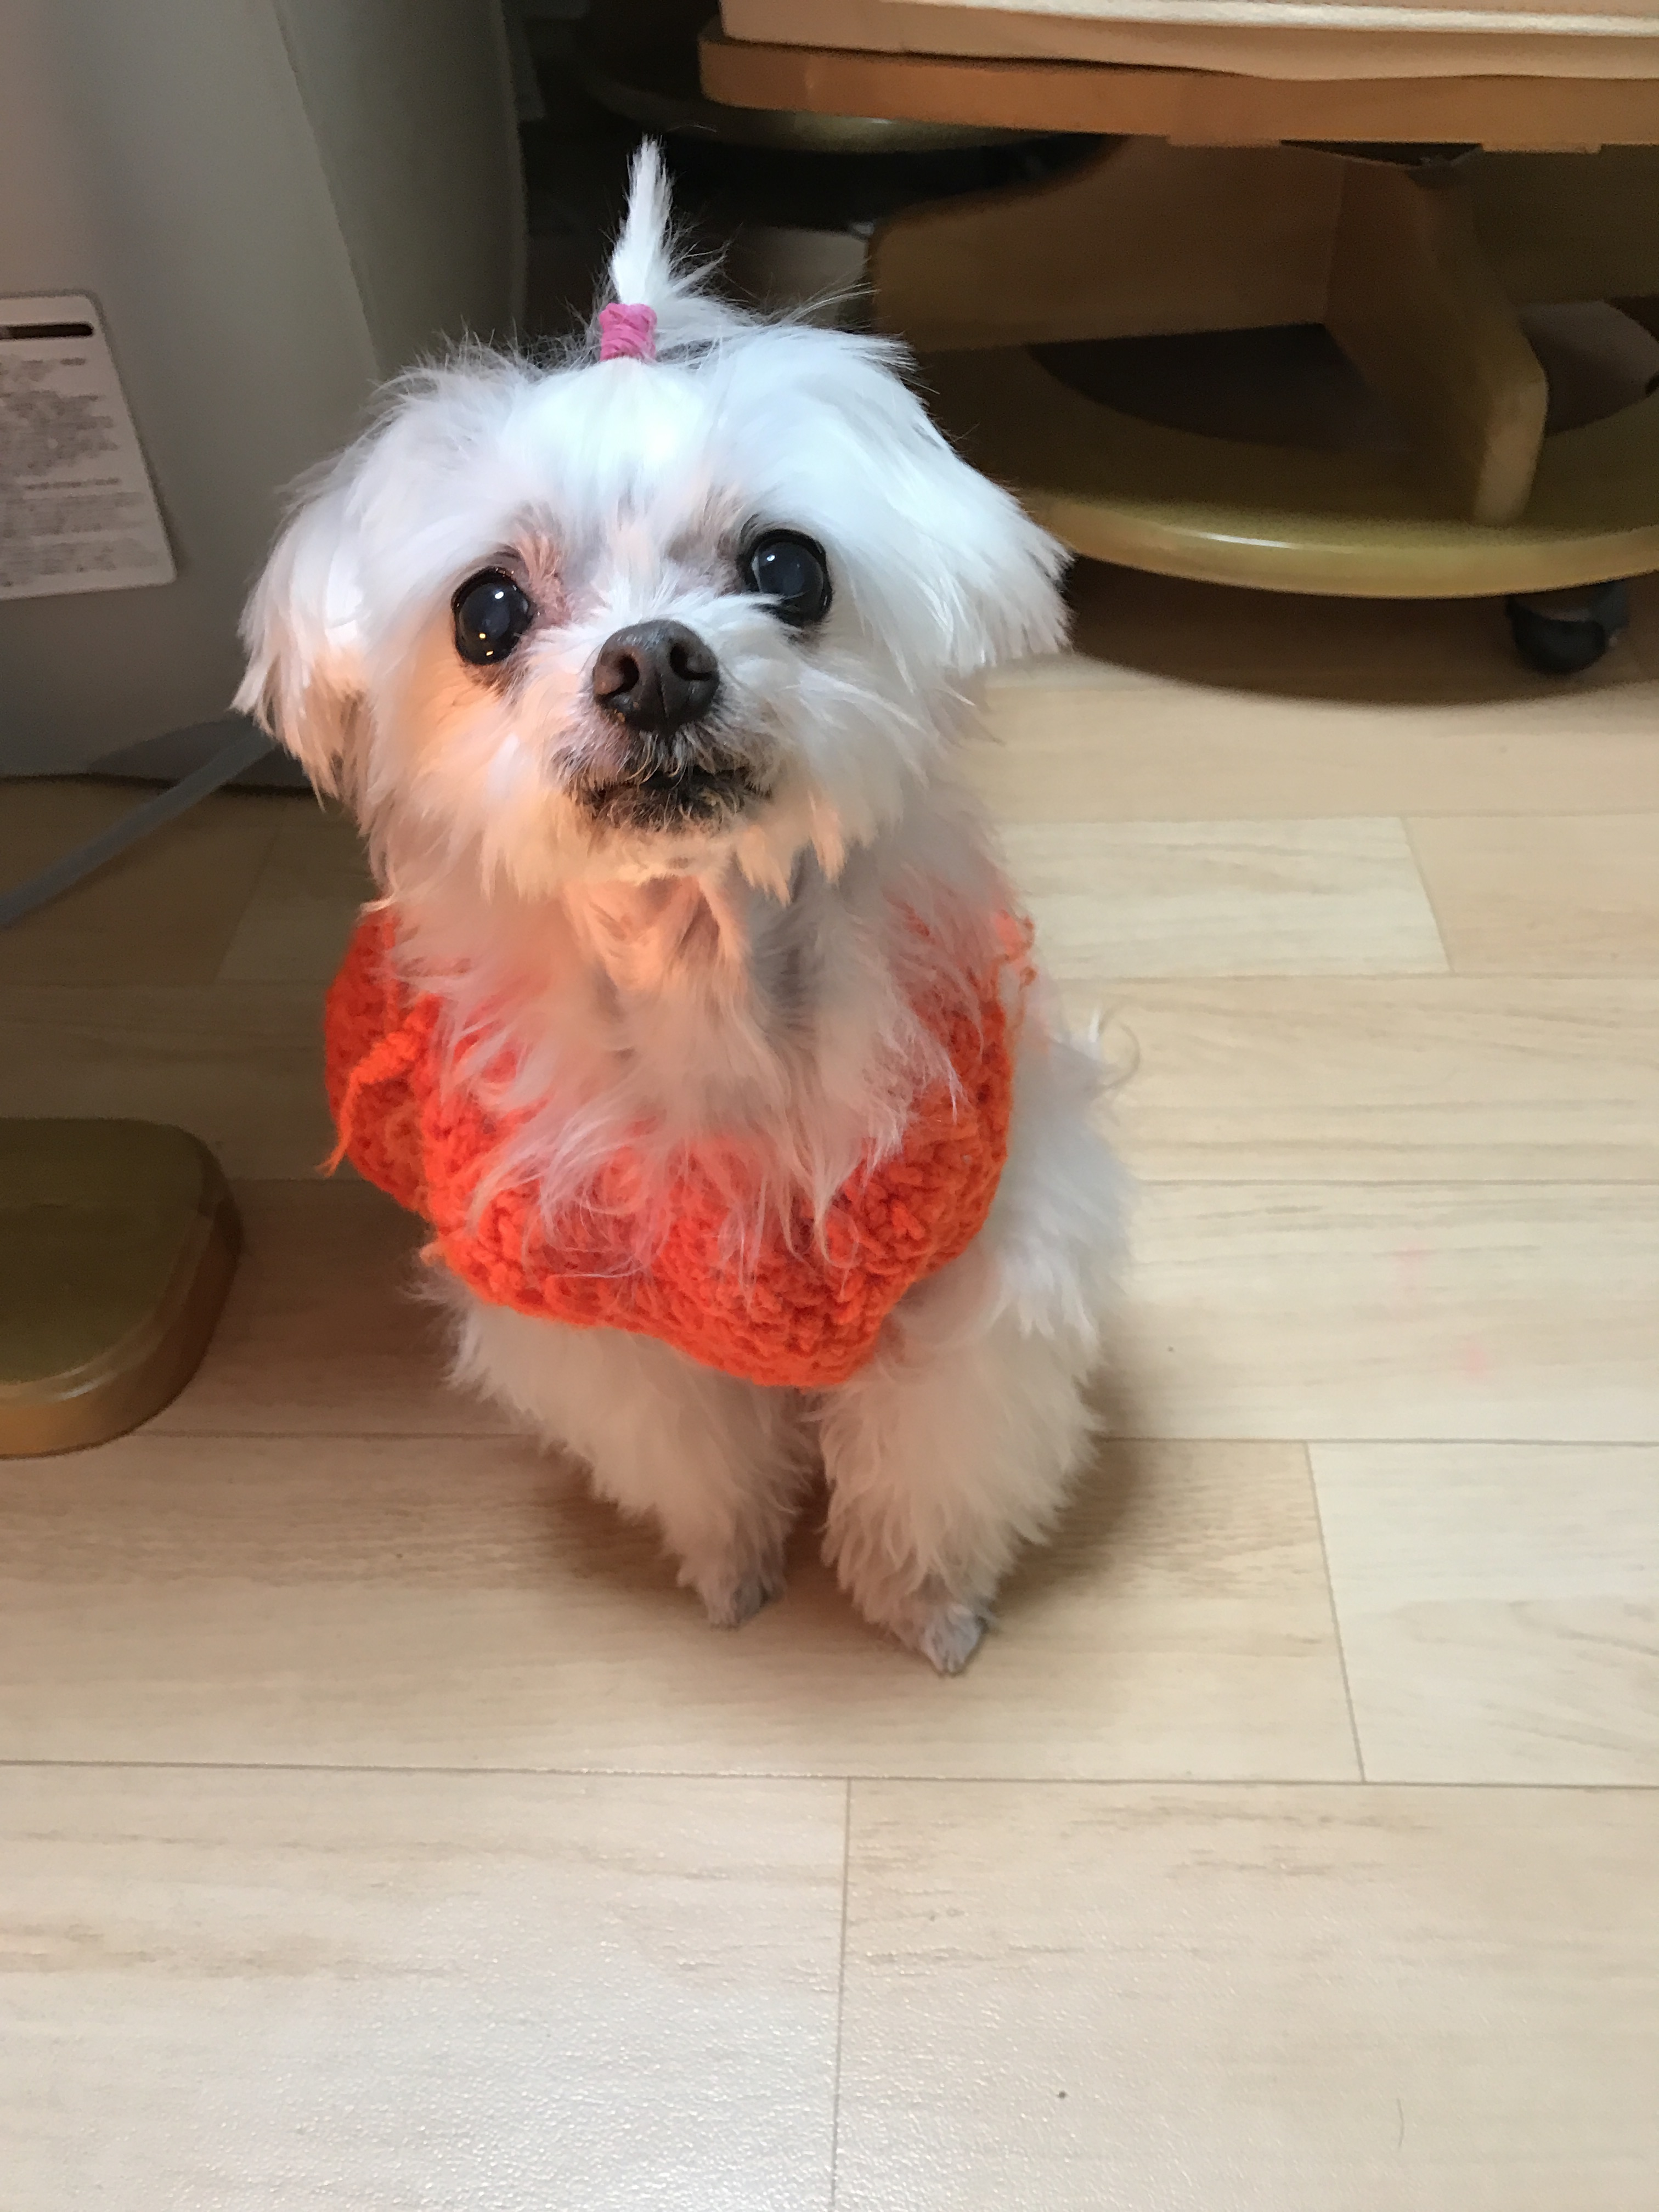dog: (228, 141, 1133, 1689)
